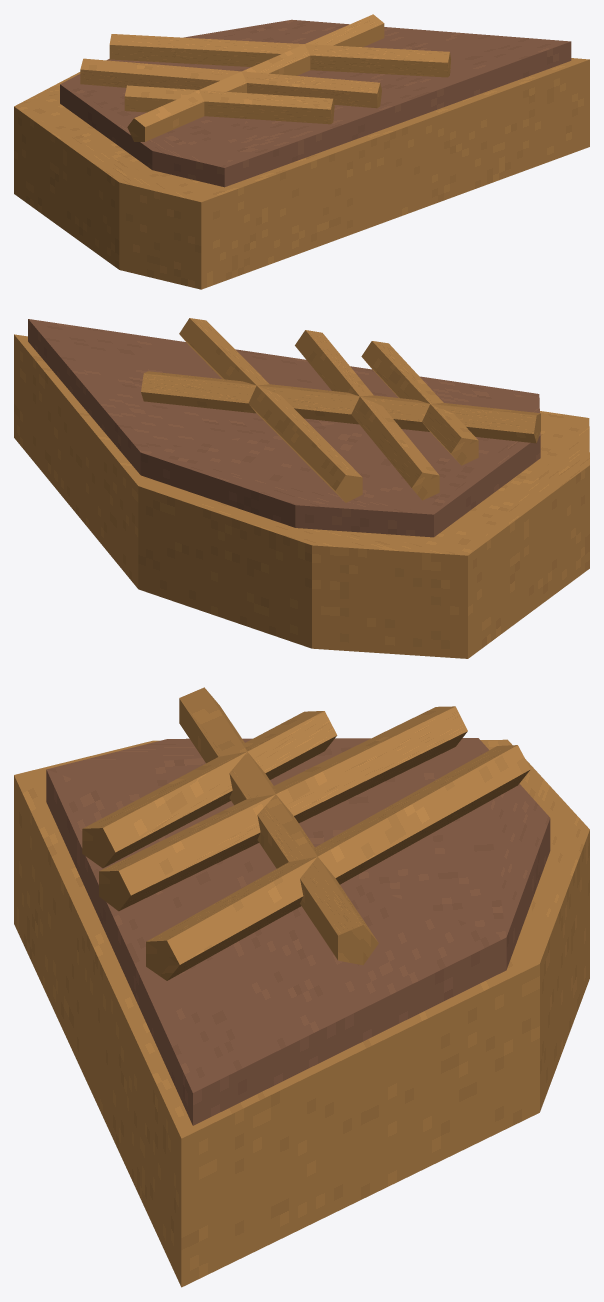
File: pie_meat.glb
3 renders of one model, top to bottom at view 1: azimuth 30°, elevation 25°; view 2: azimuth 150°, elevation 25°; view 3: azimuth 270°, elevation 25°, orthographic. The views are drawn at different scales.
Visible parts, largest first — view 1: block_baked crust, block_exposed filling, block_woven pastry strip 0 (×4); view 2: block_baked crust, block_exposed filling, block_woven pastry strip 0 (×4); view 3: block_baked crust, block_exposed filling, block_woven pastry strip 0 (×4).
Boxes of the visible parts, x1=… form: block_baked crust: x1=14, y1=58, x2=589, y2=289; block_exposed filling: x1=60, y1=19, x2=571, y2=187; block_woven pastry strip 0 (×4): x1=80, y1=14, x2=450, y2=141; block_baked crust: x1=14, y1=334, x2=589, y2=658; block_exposed filling: x1=28, y1=319, x2=540, y2=537; block_woven pastry strip 0 (×4): x1=141, y1=318, x2=540, y2=502; block_baked crust: x1=14, y1=739, x2=589, y2=1287; block_exposed filling: x1=46, y1=738, x2=550, y2=1125; block_woven pastry strip 0 (×4): x1=82, y1=687, x2=530, y2=980.
Size of the model in its own units: 0.1203 by 0.0319 by 0.0734.
Materials: 1 (1 with a texture image).
